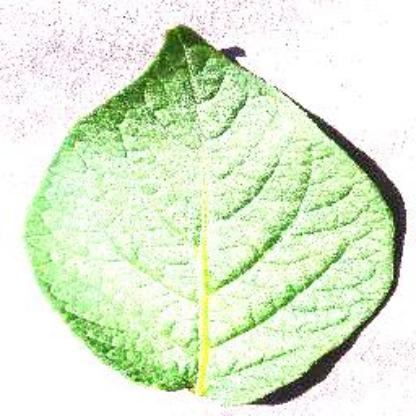Healthy-plant: (22, 20, 402, 408)
